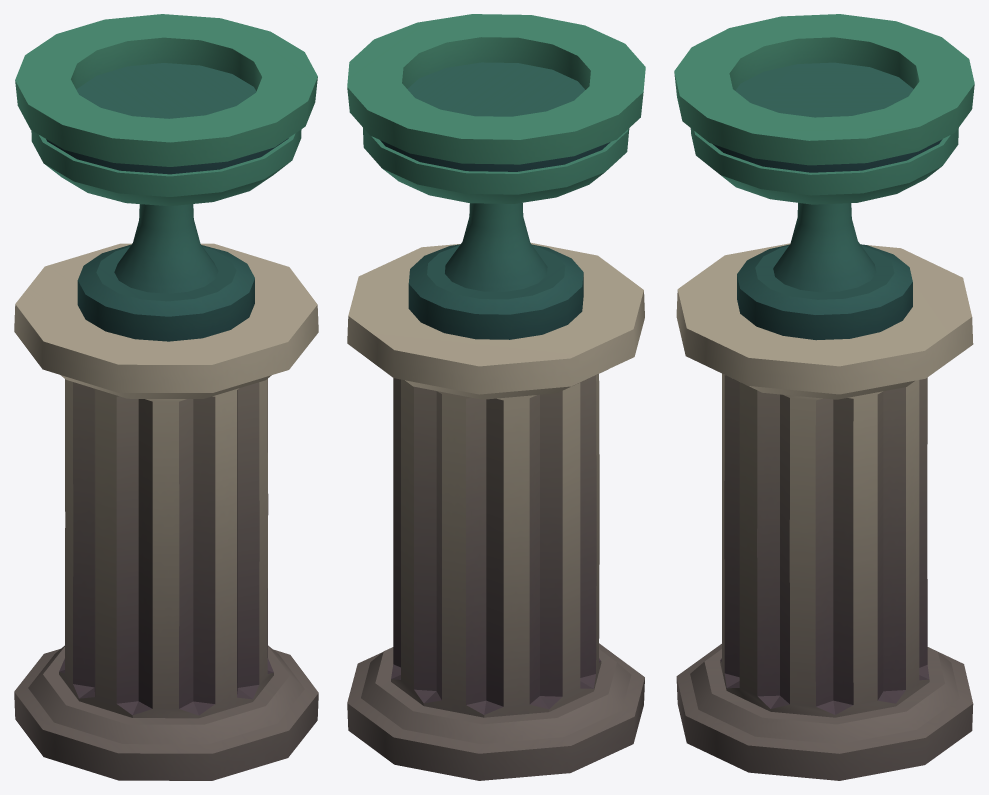
Rendered from Obstaculo_Columna_Brasa.fbx.
3 renders of one model, left to right at view 1: azimuth 30°, elevation 25°; view 2: azimuth 150°, elevation 25°; view 3: azimuth 270°, elevation 25°, orthographic.
Visible parts, largest first — view 1: ColumnaRota_Brasa.001; view 2: ColumnaRota_Brasa.001; view 3: ColumnaRota_Brasa.001.
Part boxes in pixels (<box>): ColumnaRota_Brasa.001: <box>14,14,318,780</box>; ColumnaRota_Brasa.001: <box>347,14,645,780</box>; ColumnaRota_Brasa.001: <box>674,14,974,780</box>.
Size of the model in its own units: 186 by 435 by 185.
